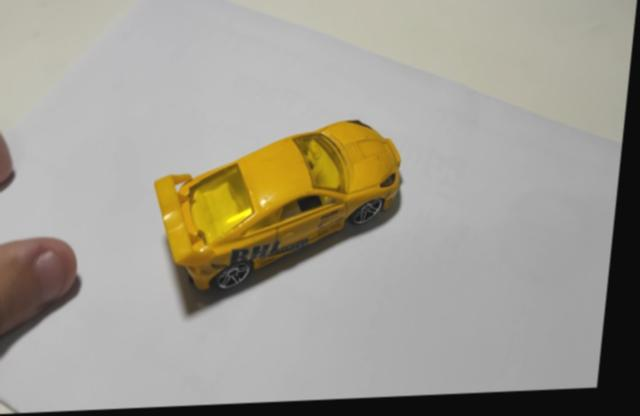07_RHLTURBO: (159, 126, 405, 294)
